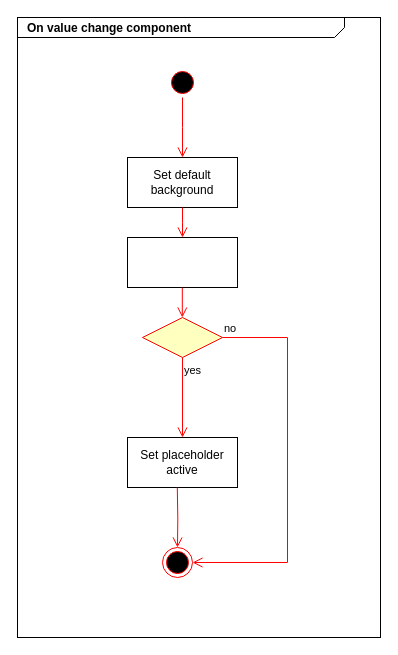
Image size: 398x655. Some labels were removed from this diagram. The shapes that lost their labels are listed below. From the top down, each one's centre as x and y in pixels, then its label:
the point at 182,262: Set default icon
the point at 182,337: Is empty
